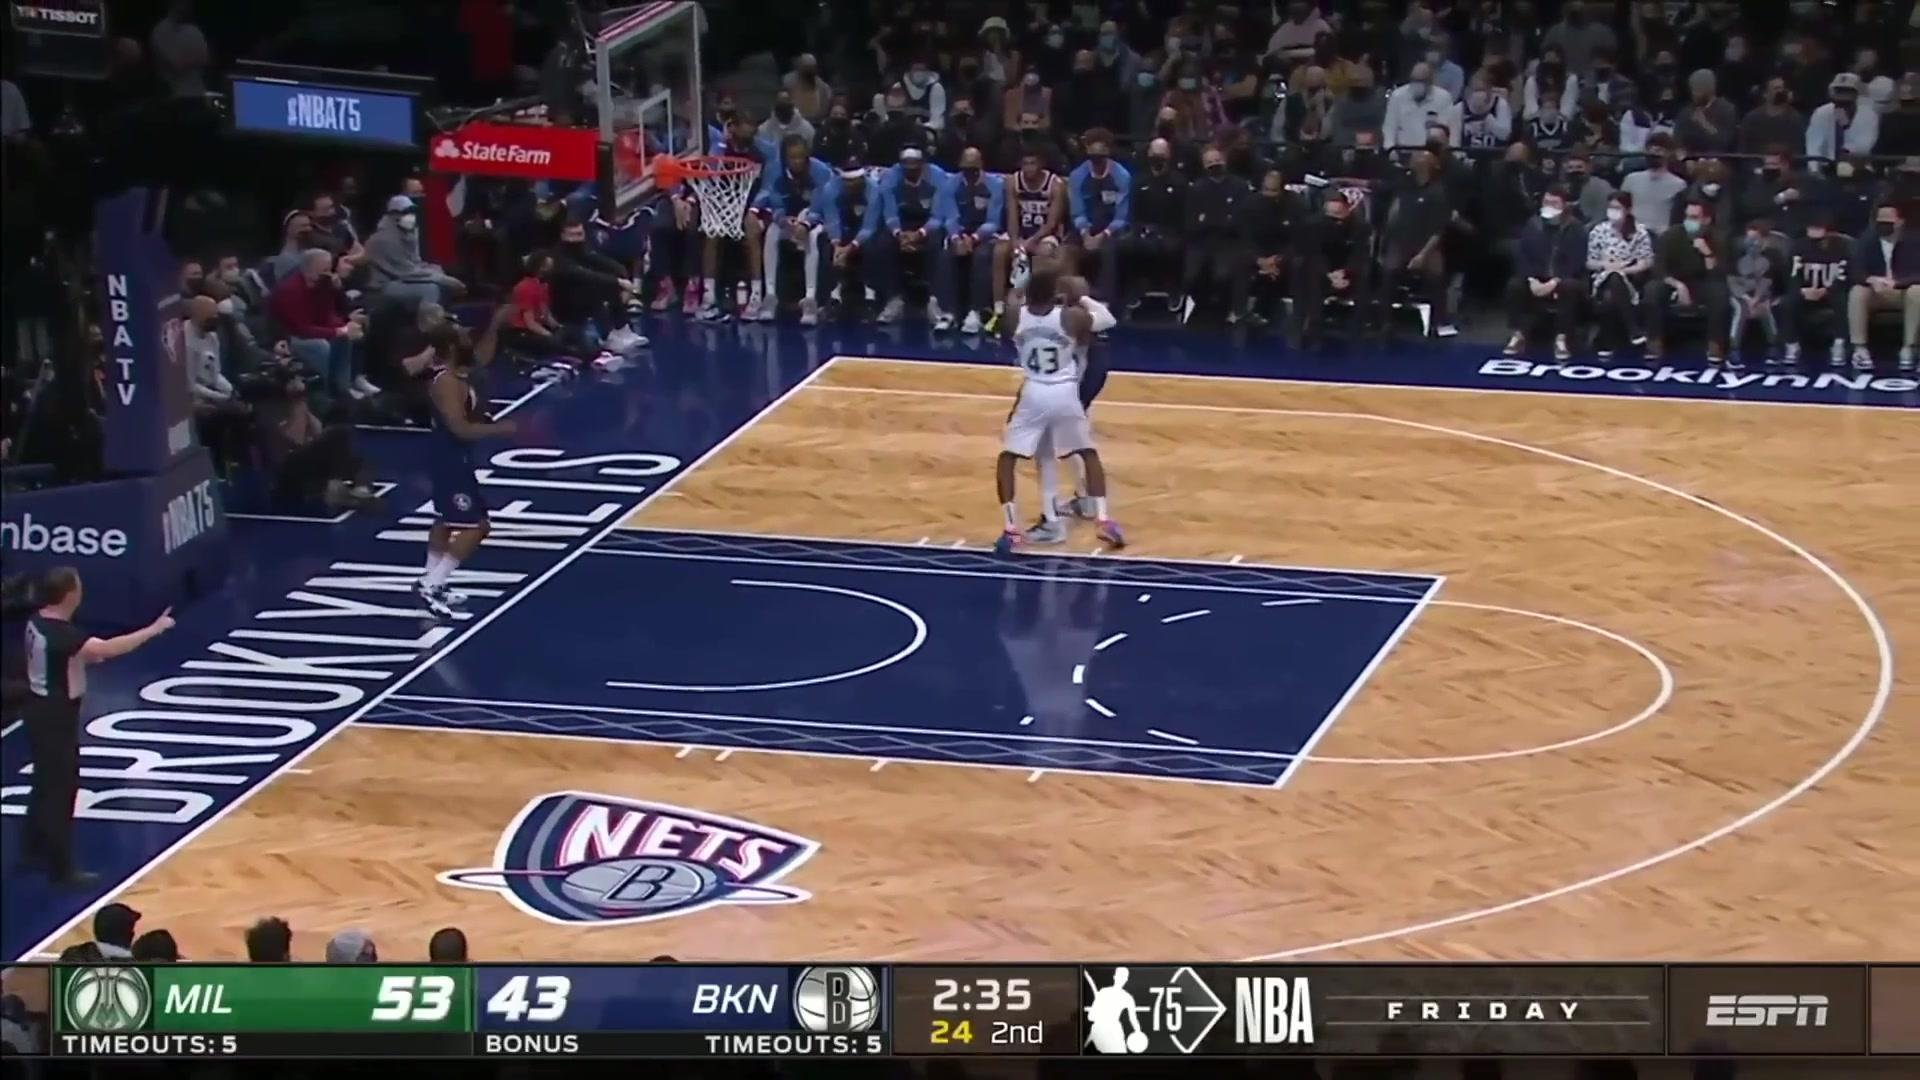foul: (965, 251, 1149, 554)
